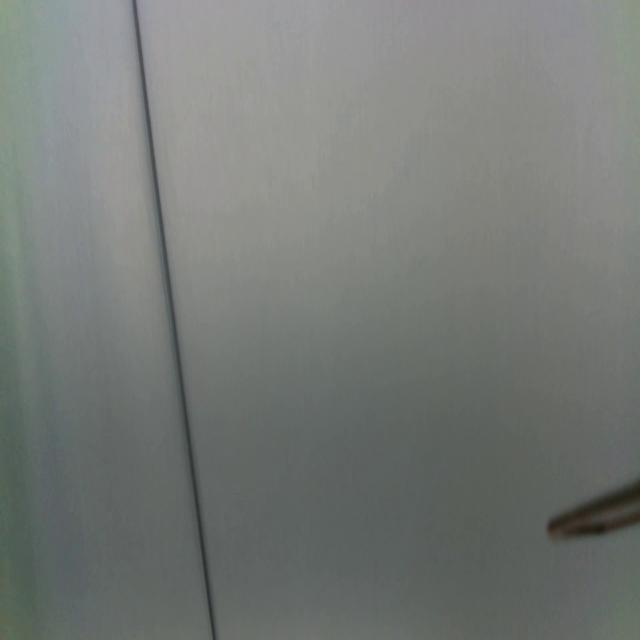crease: (133, 0, 217, 640)
